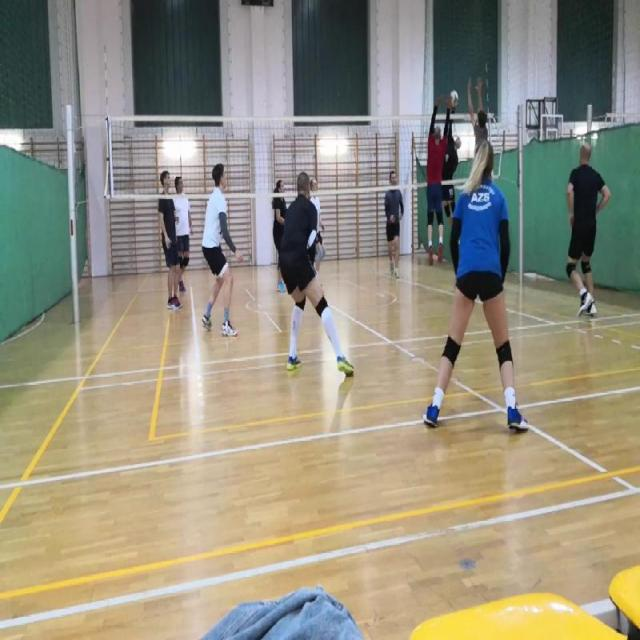volleyball: (450, 89, 458, 106)
